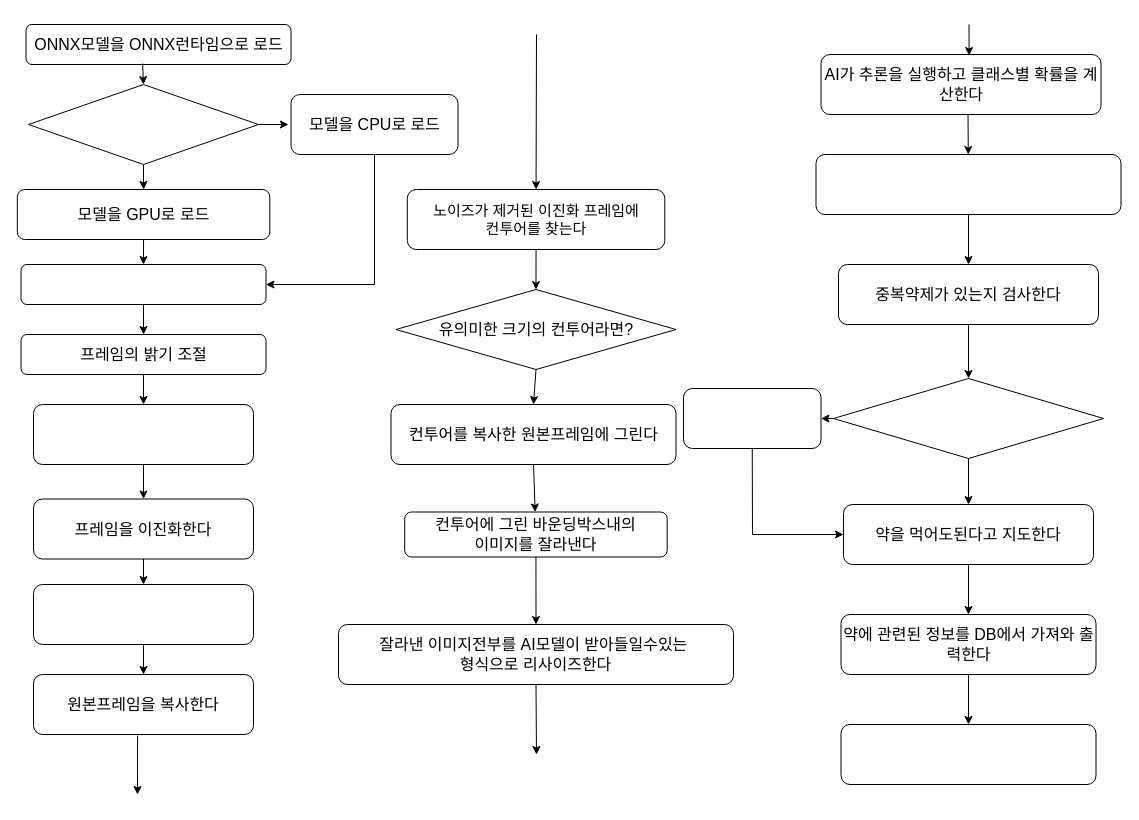
Image size: 1139x820. Some labels were removed from this diagram. The centre of each missing label's shape, as x and y in pixels:
GPU가 사용가능한가?: point (143, 124)
q를 누르면 프로그램 종료: point (968, 754)
결과 프레임을 큐에넣는다 (쓰레드로 웹으로 이미지가 전송된다): point (968, 184)
만약 중복약제가없으면?: point (968, 418)
약을 먹지않도록 지도: point (751, 418)
웹캠을 열고 프레임을 가져온다: point (143, 284)
침식과 팽창연산으로 노이즈를 제거: point (143, 614)
프레임을 흑백으로 변환: point (143, 434)
